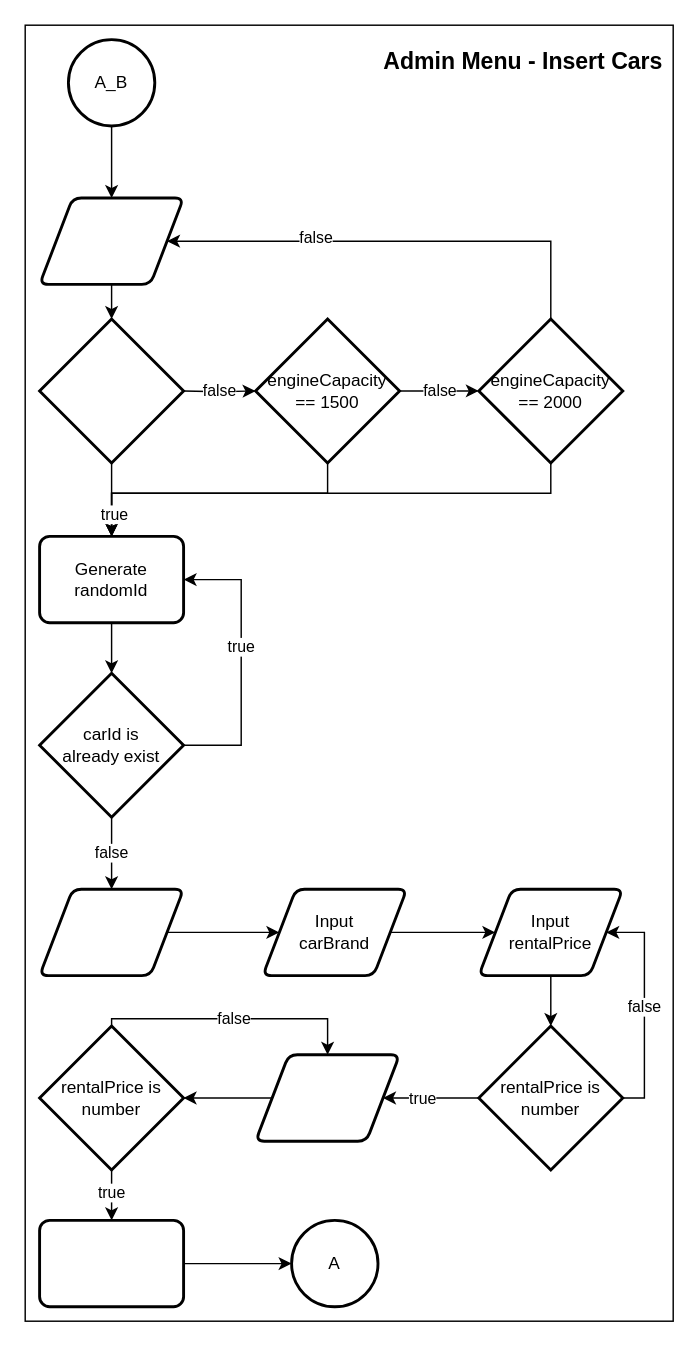
Some shapes in this 698 by 1346 pixel diagram are drawn without their labels. Here are the shapes that lost their labels. From the top down, the box of each, then its label:
(37, 196, 184, 285): Input engineCapacity
(37, 317, 184, 464): engineCapacity == 1000
(37, 887, 184, 976): Input carName
(253, 1053, 400, 1142): Input carSeats
(37, 1218, 184, 1308): Add carData into list according to engineCapacity
